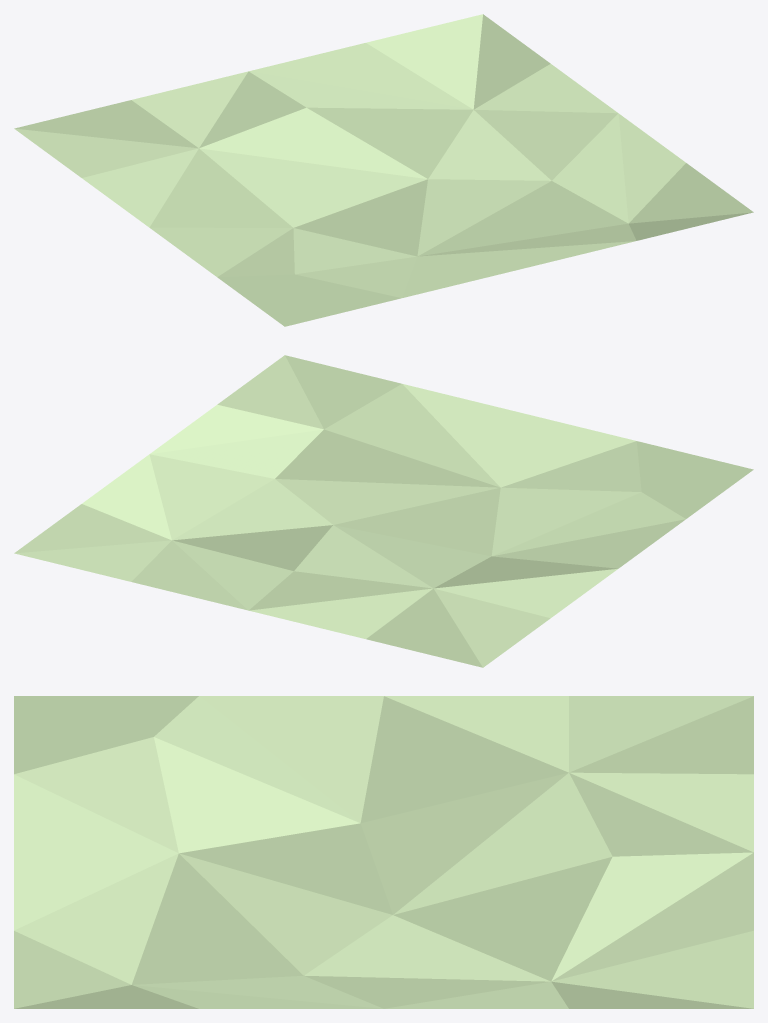
Rendered from Ditch.fbx.
3 views of the same model, one above another, from view 1: azimuth 30°, elevation 25°; view 2: azimuth 150°, elevation 25°; view 3: azimuth 270°, elevation 25° (orthographic). The views are drawn at different scales.
Parts seen in each view (by area): view 1: Ditch; view 2: Ditch; view 3: Ditch.
Boxes of the visible parts, x1,y1,x2,y2 form: Ditch: [14, 14, 753, 326]; Ditch: [14, 355, 753, 667]; Ditch: [14, 696, 753, 1008].
Size of the model in its own units: 50 by 2.87 by 50.
